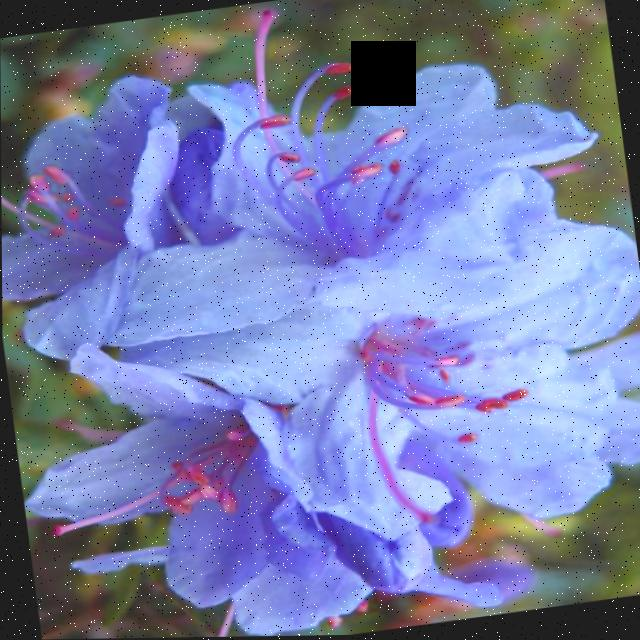azalea: (132, 25, 560, 355), (23, 324, 403, 640), (262, 229, 635, 547)
